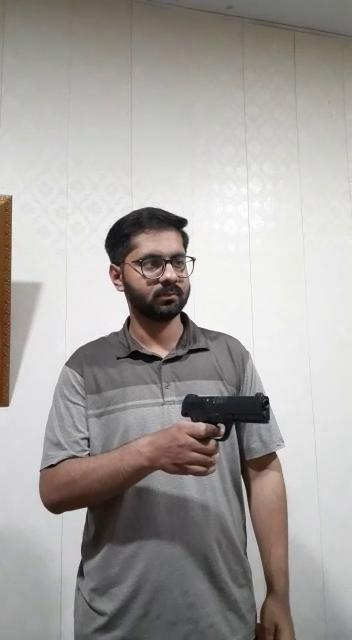criminal: (36, 202, 300, 640)
weapon: (179, 387, 272, 449)
